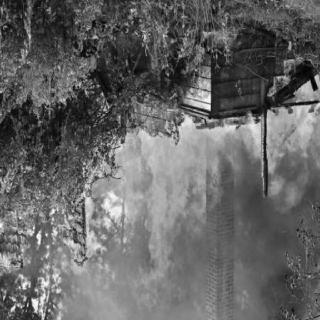Fire: (69, 82, 317, 310), (3, 211, 44, 277), (262, 57, 308, 97)
